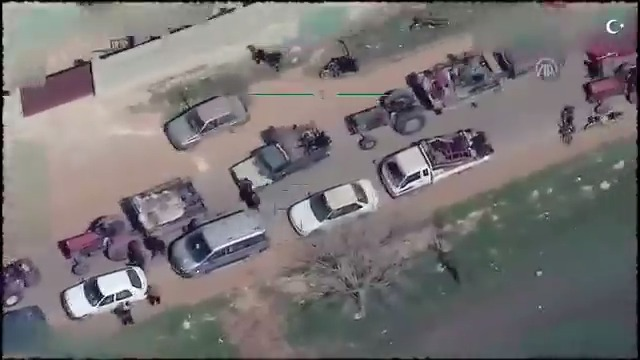arac: (346, 46, 497, 150), (56, 166, 202, 270), (379, 120, 501, 208), (226, 113, 337, 202), (168, 199, 271, 286), (280, 175, 378, 244), (159, 86, 254, 154), (58, 259, 144, 327), (406, 6, 460, 46), (581, 97, 628, 137), (555, 104, 581, 145)
